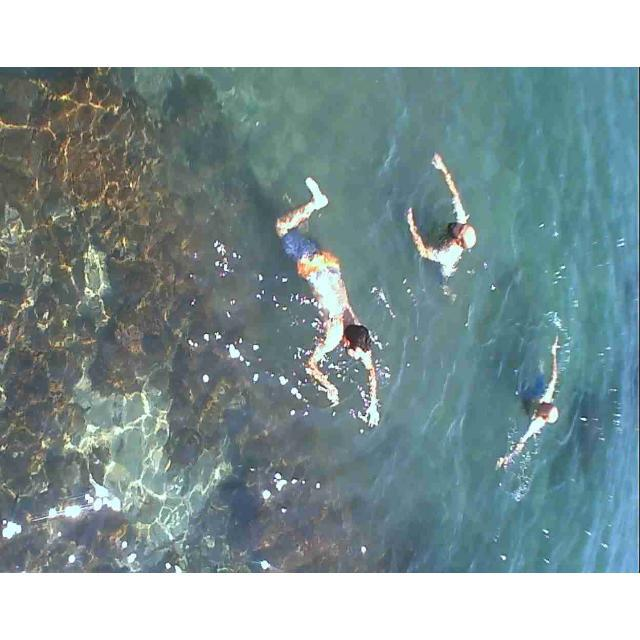human: (258, 157, 382, 430), (504, 316, 587, 514), (411, 157, 475, 291)
